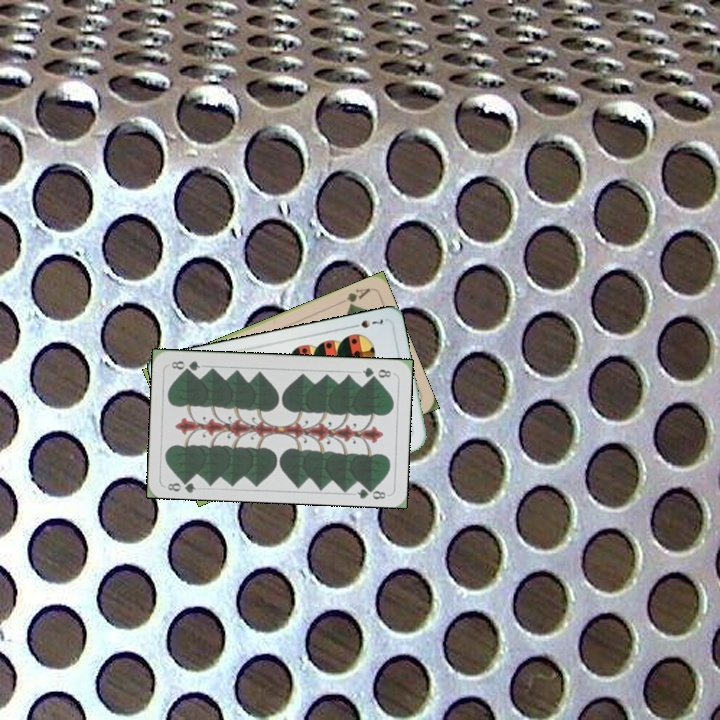G8: (164, 474, 198, 495), (358, 363, 394, 381)
GA: (335, 284, 373, 309)
S7: (347, 315, 386, 330)
